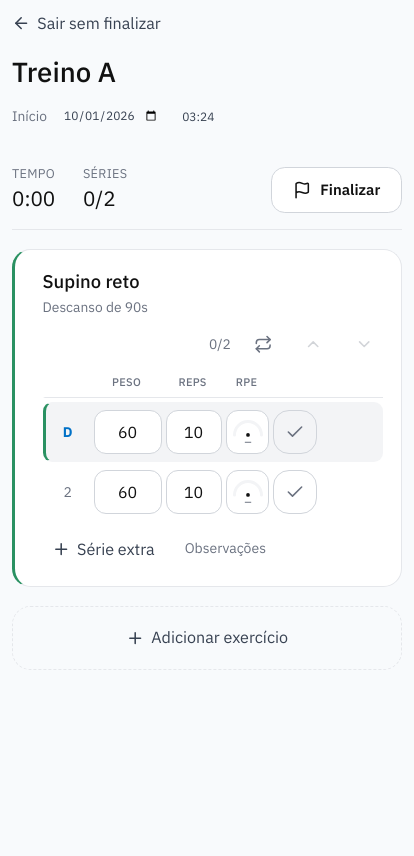
Test: tipo de série › drop set não dispara a pausa; série normal dispara
This screenshot has width=414, height=856.
Expected: the heading "Treino A" is shown, [12,54,116,90]
Click the button named "Concluir série 1 de Supino reto".
click(296, 432)  # box [274,410,318,454]
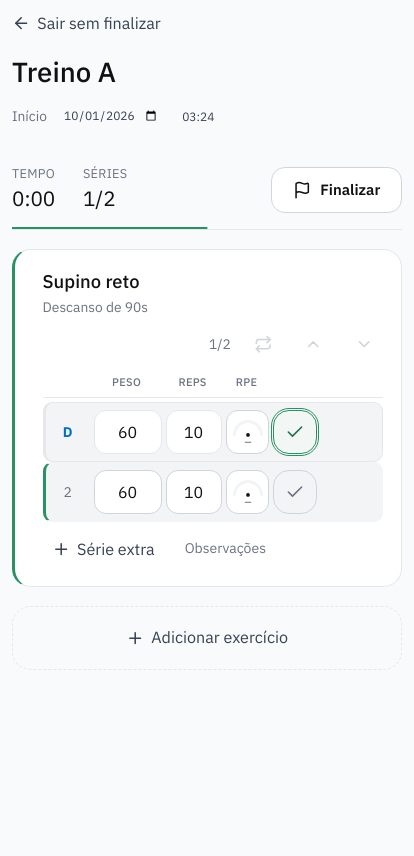
Expected: the button named "Desmarcar série 1 de Supino reto" is shown, [274,410,318,454]
Click the button named "Concluir série 2 de Supino reto".
click(296, 492)  # box [274,470,318,514]
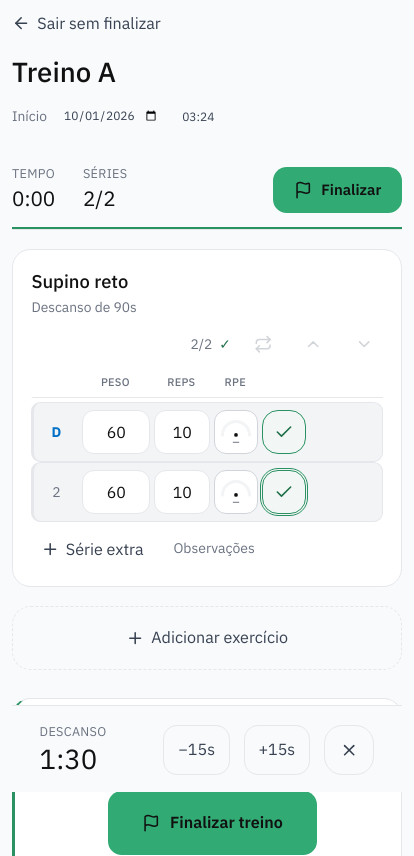
Expected: the button named "Encerrar descanso" is shown, [324,725,374,775]
